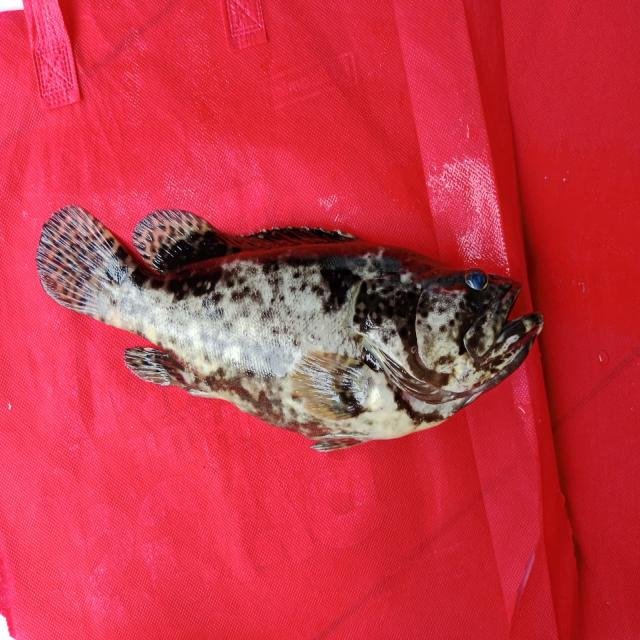ikan: (29, 164, 553, 479)
